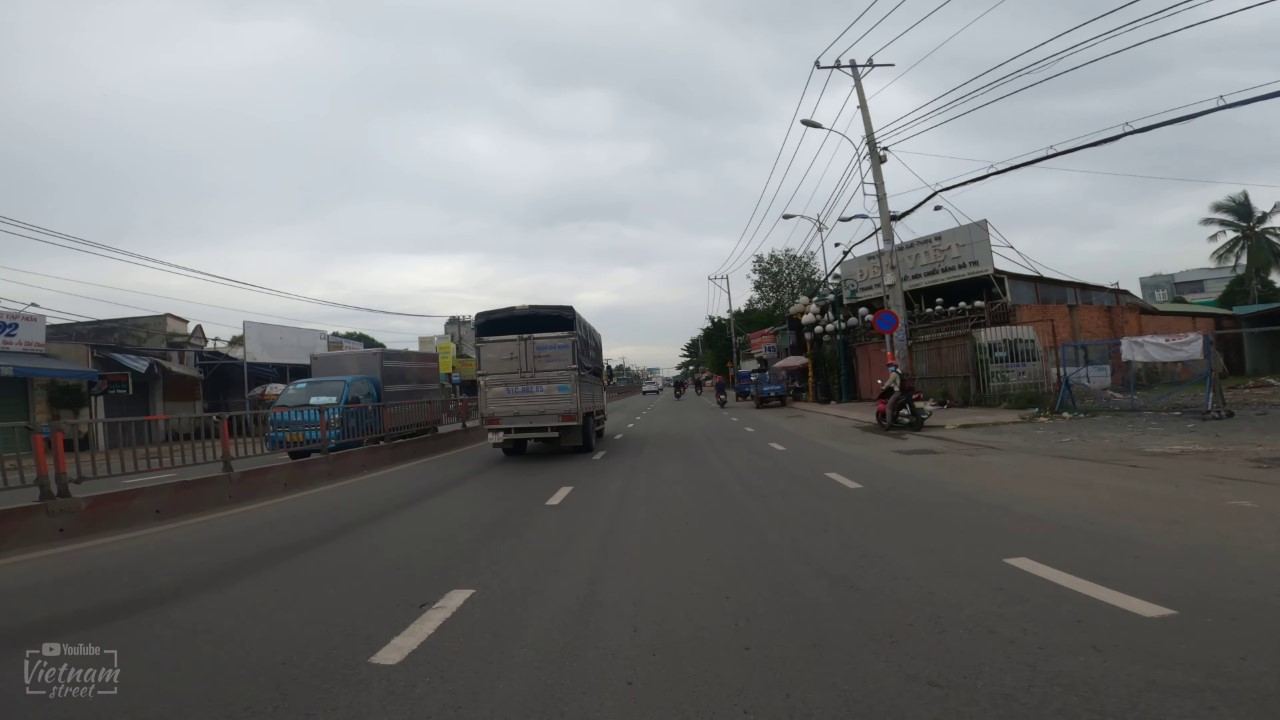cam_do_xe: (870, 306, 901, 337)
